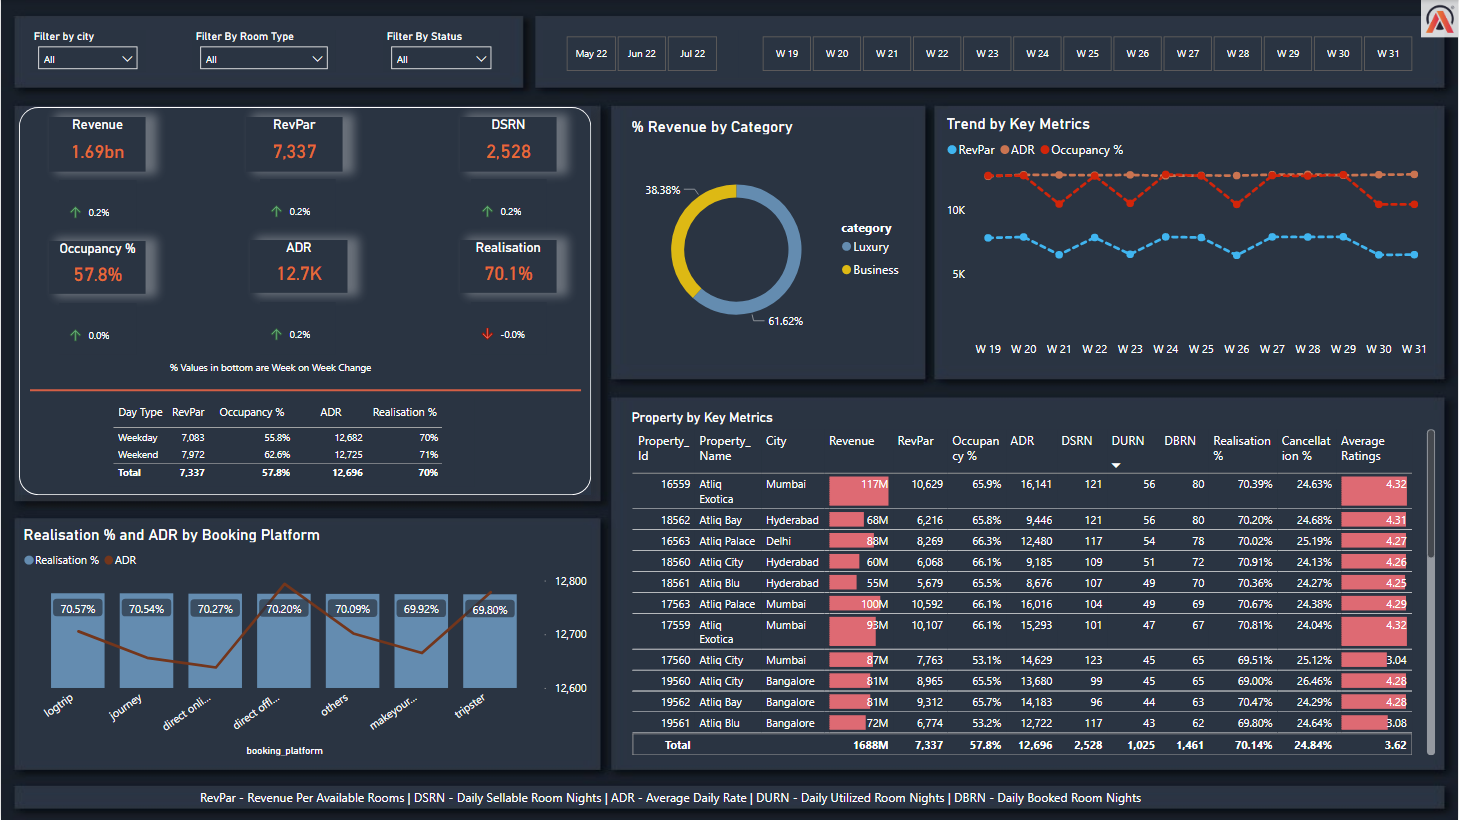

The dashboard page shown, as its layout file describes it:
{"tool":"powerbi","page":{"name":"Dashboard","canvas":[1600,900],"ordinal":0},"visuals":[{"type":"shape","box":[19.6,117.8,628.2,425.8],"z":5000},{"type":"tableEx","title":"Property by Key Metrics","fields":{"Values":["dim_hotels.property_id","dim_hotels.property_name","dim_hotels.city","Key Measures.Revenue","Key Measures.RevPar","Key Measures.Occupancy %","Key Measures.ADR","Key Measures.DSRN","Key Measures.DURN","Key Measures.DBRN","Key Measures.Realisation %","Key Measures.Cancellation %"]},"box":[687.1,450,892.3,384.1],"z":7000},{"type":"slicer","title":"Filter by city","fields":{"Values":["dim_hotels.city"]},"box":[32,33.1,126.9,46.3],"z":8000},{"type":"slicer","title":"Filter By Room Type","fields":{"Values":["dim_rooms.room_class"]},"box":[209.6,32.9,158,46.1],"z":9000},{"type":"slicer","fields":{"Values":["dim_date.mmm yy"]},"box":[594.8,33.1,215.2,51.9],"z":10000},{"type":"slicer","fields":{"Values":["dim_date.week no"]},"box":[809.8,33.1,763.2,51.5],"z":11000},{"type":"card","title":"Revenue","fields":{"Values":["Key Measures.Revenue"]},"box":[52.7,128.4,106.5,60.4],"z":12000},{"type":"tableEx","fields":{"Values":["Key Measures.Revenue WoW change %"]},"box":[63.7,197.6,84.5,57.1],"z":13000},{"type":"donutChart","title":"% Revenue by Category","fields":{"Y":["Key Measures.Revenue"],"Category":["dim_hotels.category"]},"box":[687.1,128.8,314.1,272.4],"z":14000},{"type":"lineChart","title":"Trend by Key Metrics","fields":{"Y":["Key Measures.RevPar","Key Measures.ADR"],"Category":["dim_date.week no"],"Y2":["Key Measures.Occupancy %"]},"box":[1033.1,125.2,539.9,276.1],"z":15000},{"type":"card","title":"RevPar","fields":{"Values":["Key Measures.RevPar"]},"box":[268.7,128.8,105.5,60.1],"z":16000},{"type":"card","title":"DSRN","fields":{"Values":["Key Measures.DSRN"]},"box":[504.3,128.8,105.5,60.1],"z":17000},{"type":"tableEx","fields":{"Values":["Key Measures.Revenue WoW change %"]},"box":[284.7,196.3,83.4,57.7],"z":18000},{"type":"tableEx","fields":{"Values":["Key Measures.Revenue WoW change %"]},"box":[515.3,196.3,83.4,57.7],"z":19000},{"type":"card","title":"Occupancy %","fields":{"Values":["Key Measures.Occupancy %"]},"box":[52.7,264.5,106.5,58.2],"z":20000},{"type":"card","title":"ADR","fields":{"Values":["Key Measures.ADR"]},"box":[273.6,263.8,106.7,57.7],"z":21000},{"type":"card","title":"Realisation","fields":{"Values":["Key Measures.Realisation %"]},"box":[504.3,263.8,105.5,57.7],"z":22000},{"type":"tableEx","fields":{"Values":["Key Measures.Occupancy WoW %"]},"box":[63.7,332.6,84.5,57.1],"z":23000},{"type":"tableEx","fields":{"Values":["Key Measures.ADR WoW change %"]},"box":[284.7,331.3,83.4,57.7],"z":24000},{"type":"tableEx","fields":{"Values":["Key Measures.Realisation WoW change %"]},"box":[515.3,331.3,83.4,57.7],"z":25000},{"type":"tableEx","fields":{"Values":["dim_date.day type","Key Measures.RevPar","Key Measures.Occupancy %","Key Measures.ADR","Key Measures.Realisation %"]},"box":[117.8,436.8,402.5,96.9],"z":26000},{"type":"lineStackedColumnComboChart","title":"Realisation % and ADR by Booking Platform","fields":{"Y":["Key Measures.Realisation %"],"Category":["fact_bookings.booking_platform"],"Y2":["Key Measures.ADR"]},"box":[19.6,576.7,628.2,257.7],"z":27000},{"type":"shape","box":[31.8,419.3,604.8,17.6],"z":28000},{"type":"textbox","box":[146,389,299.4,30.7],"z":29000},{"type":"slicer","title":"Filter By Status","fields":{"Values":["fact_bookings.booking_status"]},"box":[419.3,33.1,128,46.3],"z":30000},{"type":"image","box":[1558.5,0,41.7,40.6],"z":31000},{"type":"textbox","box":[209.6,861.6,1093.2,28.5],"z":32000}]}

Visuals, with their boxes in screenshot pixels (x1, y1, x2, y2), scaled from the page's 1600x900 canvas onto the 1459x820 screenshot:
shape: (left=18, top=107, right=591, bottom=495)
"Property by Key Metrics" tableEx: (left=627, top=410, right=1440, bottom=760)
"Filter by city" slicer: (left=29, top=30, right=145, bottom=72)
"Filter By Room Type" slicer: (left=191, top=30, right=335, bottom=72)
slicer - dim_date.mmm yy: (left=542, top=30, right=739, bottom=77)
slicer - dim_date.week no: (left=738, top=30, right=1434, bottom=77)
"Revenue" card: (left=48, top=117, right=145, bottom=172)
tableEx - Key Measures.Revenue WoW change %: (left=58, top=180, right=135, bottom=232)
"% Revenue by Category" donutChart: (left=627, top=117, right=913, bottom=366)
"Trend by Key Metrics" lineChart: (left=942, top=114, right=1434, bottom=366)
"RevPar" card: (left=245, top=117, right=341, bottom=172)
"DSRN" card: (left=460, top=117, right=556, bottom=172)
tableEx - Key Measures.Revenue WoW change %: (left=260, top=179, right=336, bottom=231)
tableEx - Key Measures.Revenue WoW change %: (left=470, top=179, right=546, bottom=231)
"Occupancy %" card: (left=48, top=241, right=145, bottom=294)
"ADR" card: (left=249, top=240, right=347, bottom=293)
"Realisation" card: (left=460, top=240, right=556, bottom=293)
tableEx - Key Measures.Occupancy WoW %: (left=58, top=303, right=135, bottom=355)
tableEx - Key Measures.ADR WoW change %: (left=260, top=302, right=336, bottom=354)
tableEx - Key Measures.Realisation WoW change %: (left=470, top=302, right=546, bottom=354)
tableEx - dim_date.day type x Key Measures.RevPar: (left=107, top=398, right=474, bottom=486)
"Realisation % and ADR by Booking Platform" lineStackedColumnComboChart: (left=18, top=525, right=591, bottom=760)
shape: (left=29, top=382, right=580, bottom=398)
textbox: (left=133, top=354, right=406, bottom=382)
"Filter By Status" slicer: (left=382, top=30, right=499, bottom=72)
image: (left=1421, top=0, right=1458, bottom=37)
textbox: (left=191, top=785, right=1188, bottom=811)
